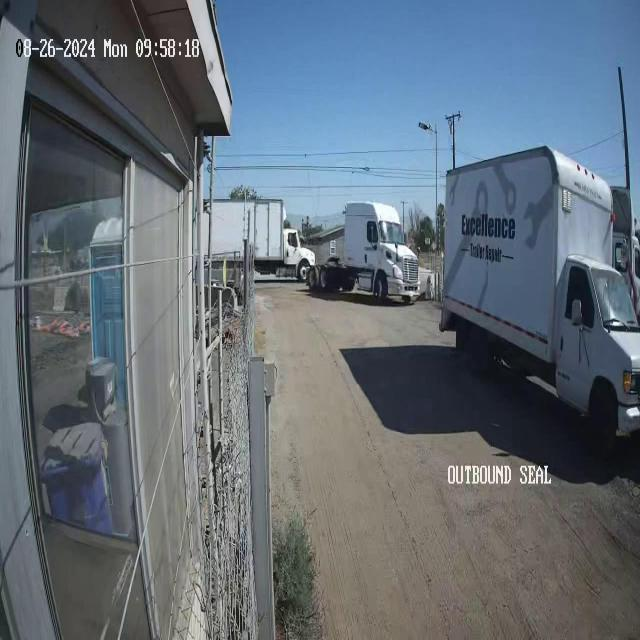TRUCK_IN: (438, 143, 640, 455)
